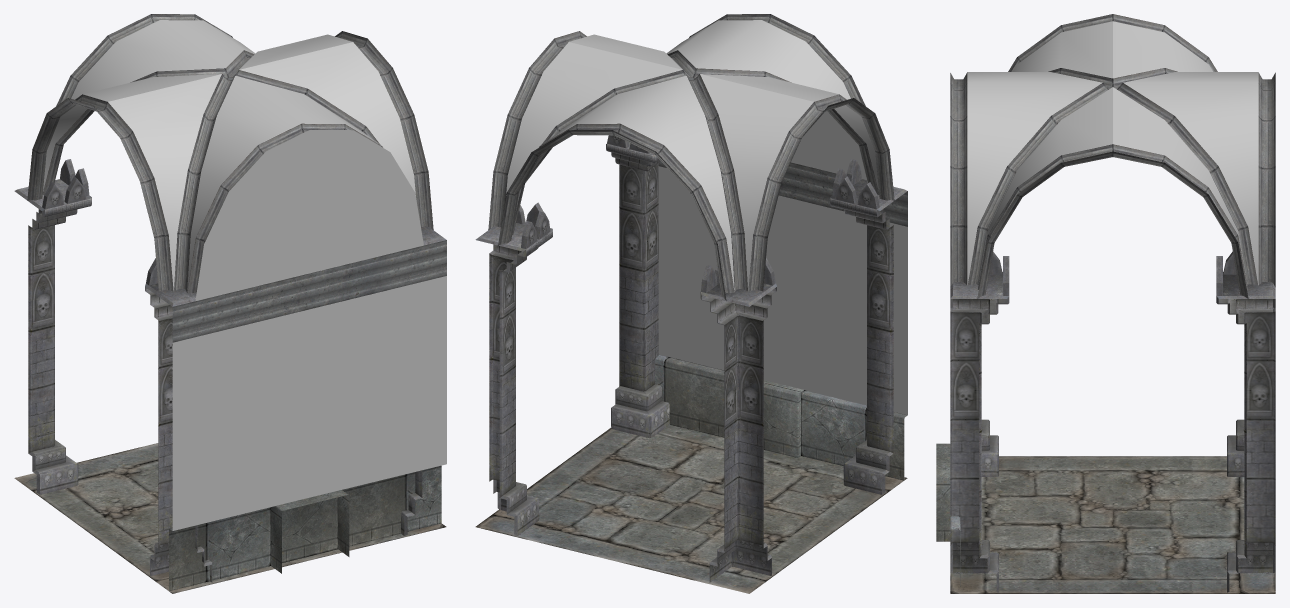
Rendered from 3_waytunnel.FBX.
The picture shows the model from 3 angles, left to right: view 1: azimuth 30°, elevation 25°; view 2: azimuth 150°, elevation 25°; view 3: azimuth 270°, elevation 25°; orthographic projection. The views are drawn at different scales.
Parts seen in each view (by area): view 1: 3_waytunnel; view 2: 3_waytunnel; view 3: 3_waytunnel.
Boxes of the visible parts, x1,y1,x2,y2 form: 3_waytunnel: [14, 14, 446, 593]; 3_waytunnel: [475, 14, 907, 593]; 3_waytunnel: [936, 14, 1275, 593].
Size of the model in its own units: 500 by 750 by 521.
